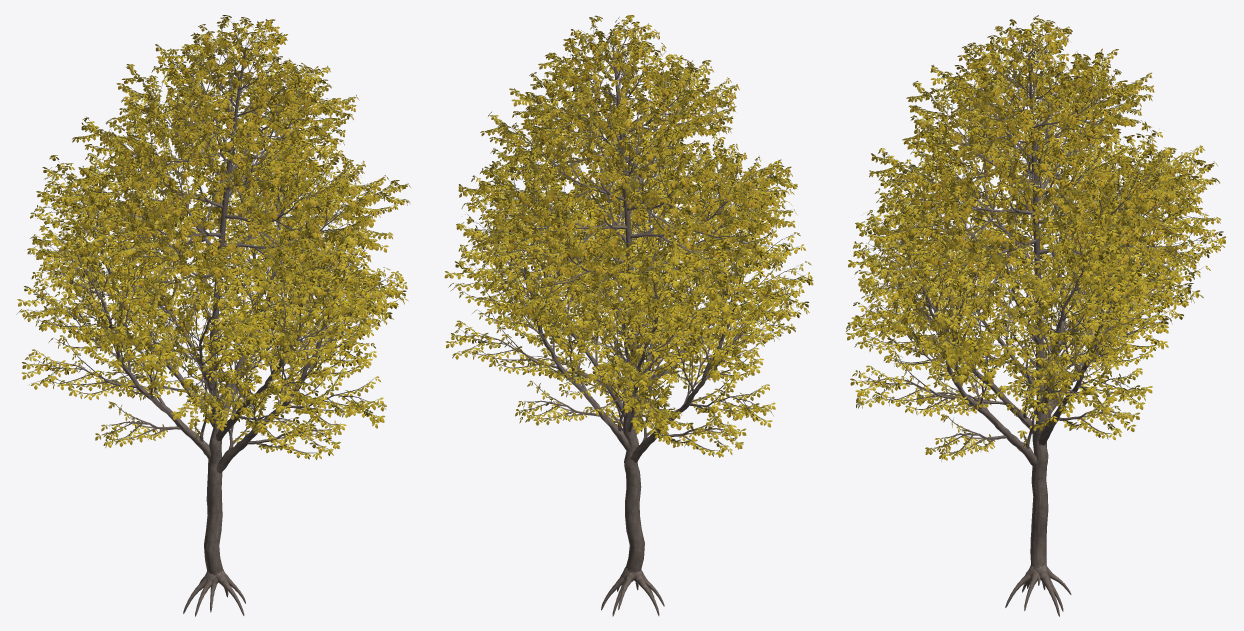
Rendered from nikko_maple.glb.
3 views of the same model, side by side, from view 1: azimuth 30°, elevation 25°; view 2: azimuth 150°, elevation 25°; view 3: azimuth 270°, elevation 25° (orthographic). The views are drawn at different scales.
Parts seen in each view (by area): view 1: Leaf02_8_Leaf02_au_SHD_0, Bark01_8_Bark01_SHD_0, Leaf03_8_Leaf03_au_SHD_0; view 2: Leaf02_8_Leaf02_au_SHD_0, Bark01_8_Bark01_SHD_0, Leaf03_8_Leaf03_au_SHD_0; view 3: Leaf02_8_Leaf02_au_SHD_0, Bark01_8_Bark01_SHD_0, Leaf03_8_Leaf03_au_SHD_0.
Boxes of the visible parts, x1,y1,x2,y2 form: Leaf02_8_Leaf02_au_SHD_0: (16, 17, 410, 459); Bark01_8_Bark01_SHD_0: (25, 21, 406, 616); Leaf03_8_Leaf03_au_SHD_0: (55, 15, 410, 334); Leaf02_8_Leaf02_au_SHD_0: (444, 16, 813, 457); Bark01_8_Bark01_SHD_0: (454, 19, 806, 616); Leaf03_8_Leaf03_au_SHD_0: (458, 15, 796, 331); Leaf02_8_Leaf02_au_SHD_0: (846, 18, 1225, 461); Bark01_8_Bark01_SHD_0: (853, 18, 1217, 616); Leaf03_8_Leaf03_au_SHD_0: (869, 15, 1220, 320).
Bounding box in the file's own units: 802 × 1398 × 821.
3 materials, 3 textured.
